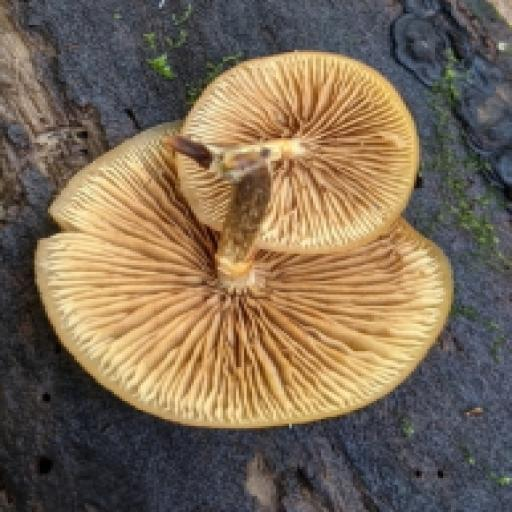mushroom: (30, 51, 461, 433)
